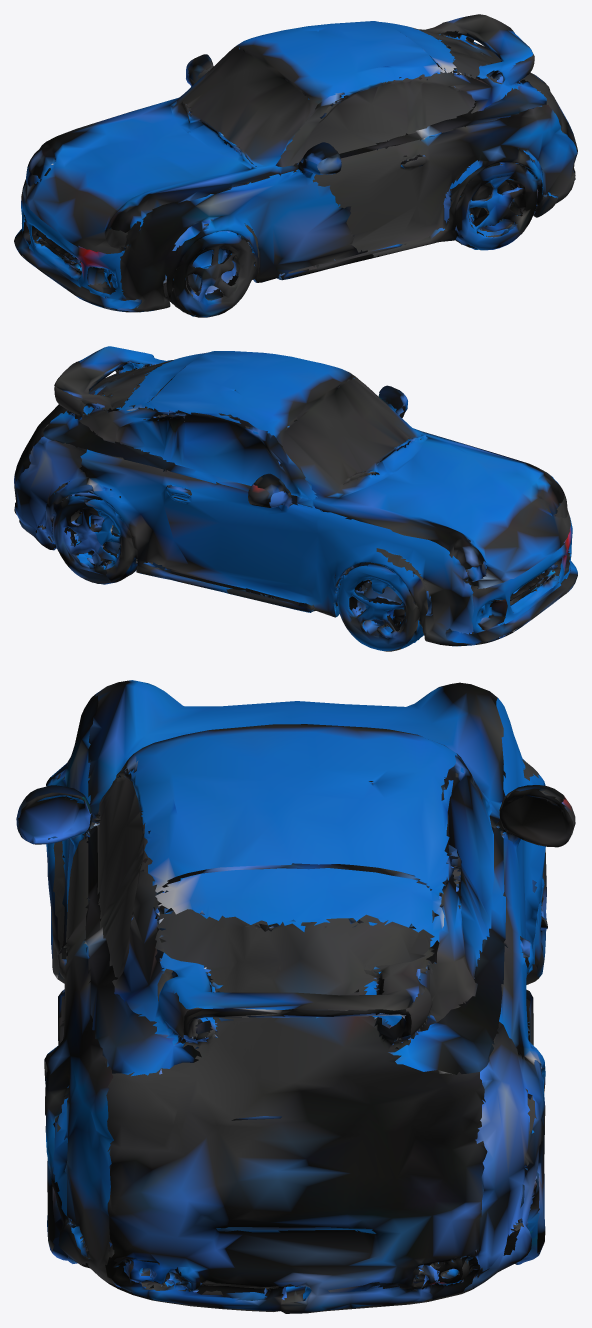
File: Meshy_AI_Azure_Velocity_0807150759_texture.glb
The picture shows the model from 3 angles, top to bottom: view 1: azimuth 30°, elevation 25°; view 2: azimuth 150°, elevation 25°; view 3: azimuth 270°, elevation 25°; orthographic projection. The views are drawn at different scales.
Size of the model in its own units: 2 by 0.729 by 0.9733.
